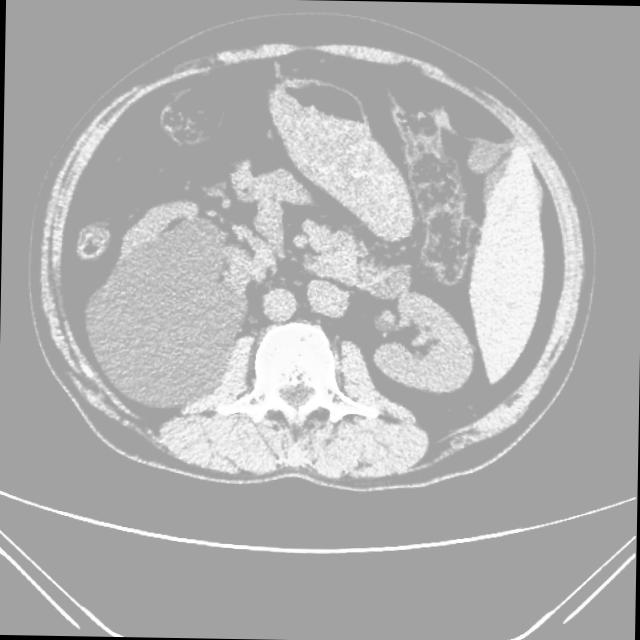cysts: (34, 32, 594, 494)
